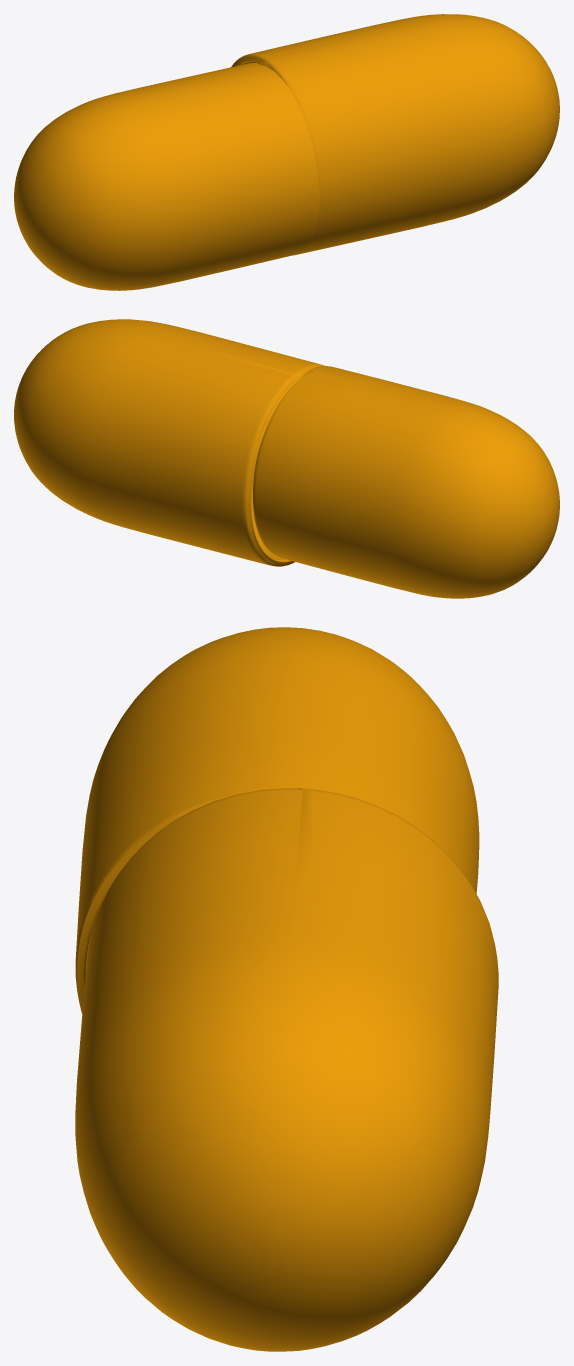
Rendered from Dna strand.gltf.
The picture shows the model from 3 angles, top to bottom: view 1: azimuth 30°, elevation 25°; view 2: azimuth 150°, elevation 25°; view 3: azimuth 270°, elevation 25°; orthographic projection. The views are drawn at different scales.
Visible parts, largest first — view 1: Sphere.002_Sphere.001, Sphere.001_Sphere.003_Sphere.001_Sphere.001; view 2: Sphere.002_Sphere.001, Sphere.001_Sphere.003_Sphere.001_Sphere.001; view 3: Sphere.001_Sphere.003_Sphere.001_Sphere.001, Sphere.002_Sphere.001.
Part boxes in pixels (box(x1,y1,x2,y2)): Sphere.002_Sphere.001: box(14, 62, 320, 290); Sphere.001_Sphere.003_Sphere.001_Sphere.001: box(231, 14, 559, 255); Sphere.002_Sphere.001: box(253, 365, 559, 598); Sphere.001_Sphere.003_Sphere.001_Sphere.001: box(14, 319, 324, 566); Sphere.001_Sphere.003_Sphere.001_Sphere.001: box(75, 788, 498, 1351); Sphere.002_Sphere.001: box(75, 627, 479, 1013).
Bounding box in the file's own units: 0.4423 × 0.1523 × 0.1555.
